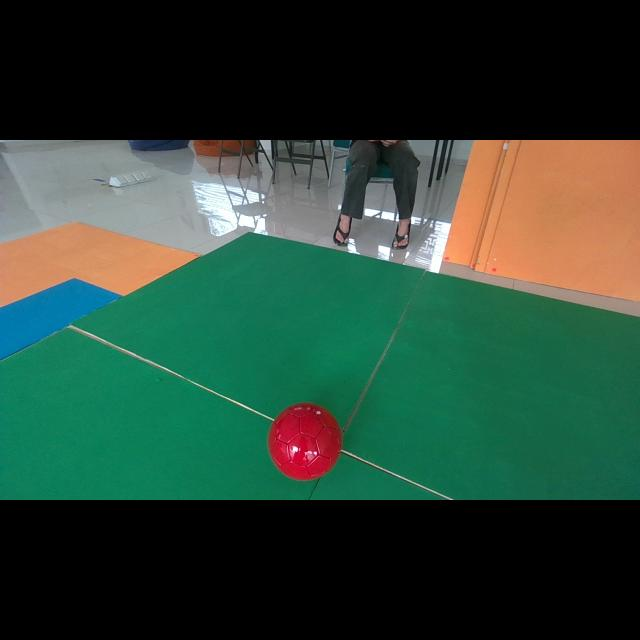R: (268, 402, 342, 480)
